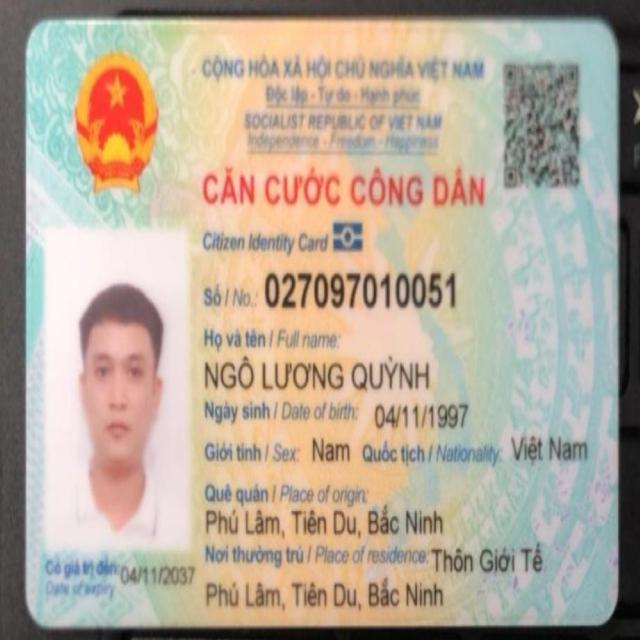current_place: (203, 573, 446, 614), (431, 535, 549, 579)
dob: (372, 396, 469, 431)
expire_date: (119, 560, 197, 588)
gender: (309, 429, 355, 469)
id: (263, 268, 460, 312)
name: (202, 351, 431, 395)
nationality: (509, 432, 590, 466)
origin_place: (202, 502, 444, 543)
